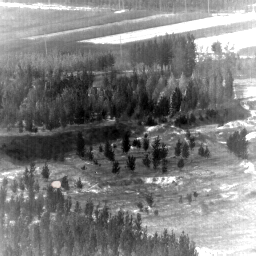Target: (50, 179, 63, 189)
